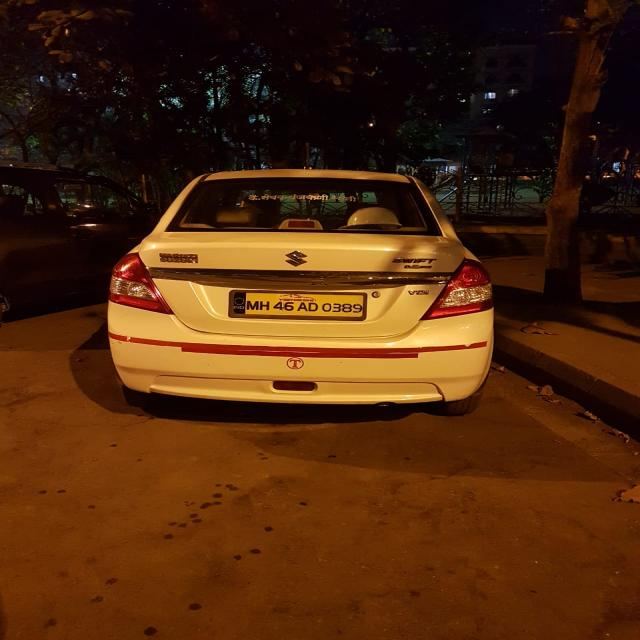Number-Plate: (233, 290, 361, 318)
